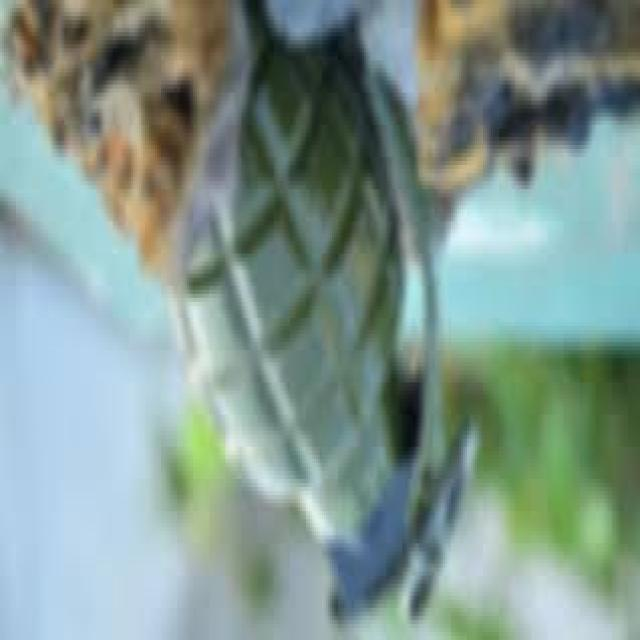grenade: (166, 29, 478, 640)
